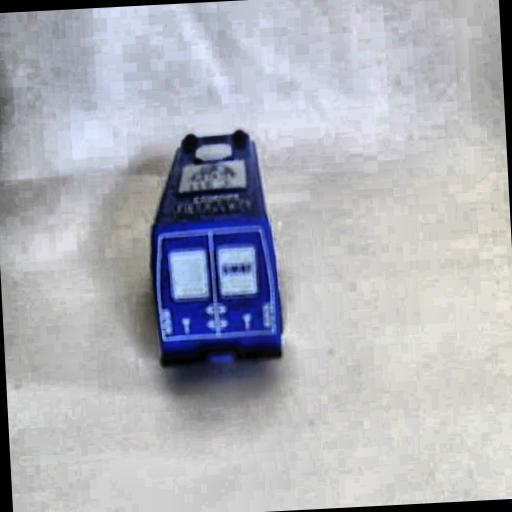police car: (134, 118, 292, 380)
